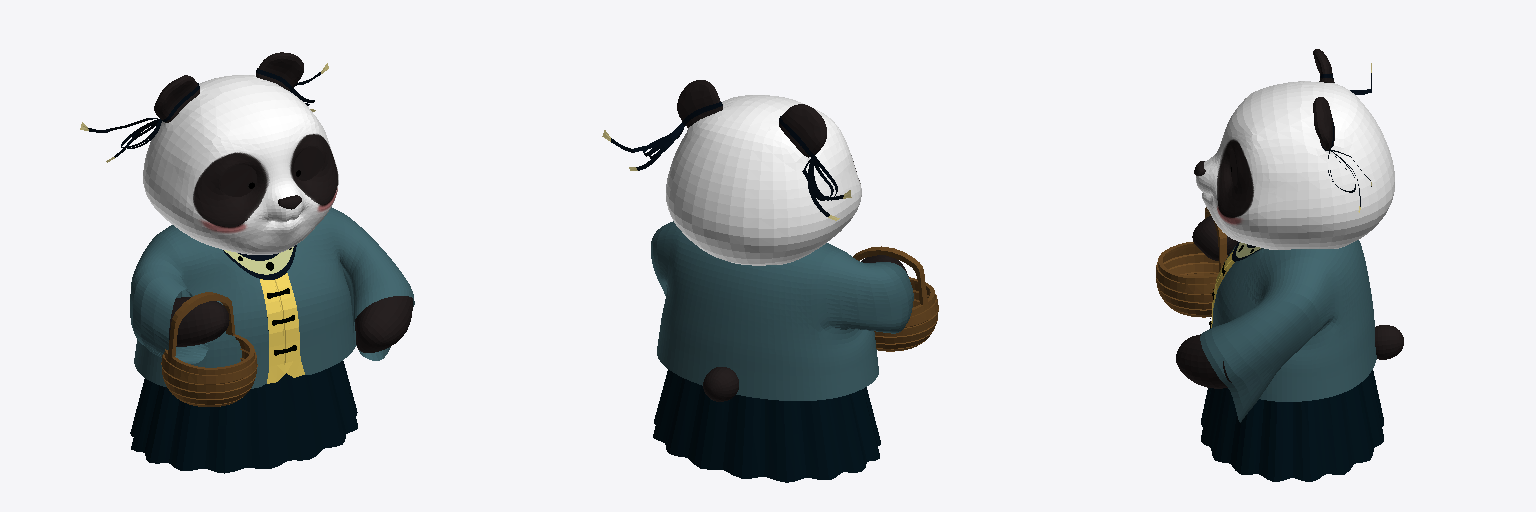
3 renders of one model, left to right at view 1: azimuth 30°, elevation 25°; view 2: azimuth 150°, elevation 25°; view 3: azimuth 270°, elevation 25°, orthographic.
Visible parts, largest first — view 1: panda_body007.004, panda_body007.003, 柱体, 球体, panda_body007.012, panda_body007.015, panda_body007.017, panda_body007.018, 平面.001; view 2: panda_body007.003, panda_body007.004, 柱体, 球体, panda_body007.018, panda_body007.002; view 3: panda_body007.004, panda_body007.003, 柱体, 球体, panda_body007.015, panda_body007.017, panda_body007.002.
Part boxes in pixels (bbox=[...]): panda_body007.004: bbox=[143, 52, 338, 254]; panda_body007.003: bbox=[130, 207, 414, 388]; 柱体: bbox=[130, 317, 357, 473]; 球体: bbox=[161, 292, 257, 406]; panda_body007.012: bbox=[260, 273, 304, 383]; panda_body007.015: bbox=[355, 296, 412, 352]; panda_body007.017: bbox=[169, 297, 229, 346]; panda_body007.018: bbox=[80, 63, 328, 162]; 平面.001: bbox=[223, 245, 296, 279]; panda_body007.003: bbox=[651, 221, 913, 400]; panda_body007.004: bbox=[666, 80, 861, 265]; 柱体: bbox=[653, 369, 880, 482]; 球体: bbox=[853, 246, 938, 351]; panda_body007.018: bbox=[602, 102, 851, 220]; panda_body007.002: bbox=[703, 367, 738, 401]; panda_body007.004: bbox=[1196, 49, 1394, 249]; panda_body007.003: bbox=[1200, 240, 1376, 422]; 柱体: bbox=[1201, 370, 1383, 481]; 球体: bbox=[1156, 207, 1227, 317]; panda_body007.015: bbox=[1176, 334, 1231, 388]; panda_body007.017: bbox=[1192, 216, 1237, 260]; panda_body007.002: bbox=[1375, 325, 1403, 359].
Size of the model in its own units: 6.21 by 8.15 by 5.15.
Materials: 11 (1 with a texture image).